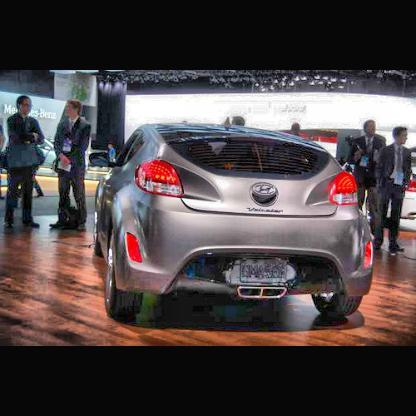Hyundai Veloster Hatchback 2012: (93, 118, 375, 329)
